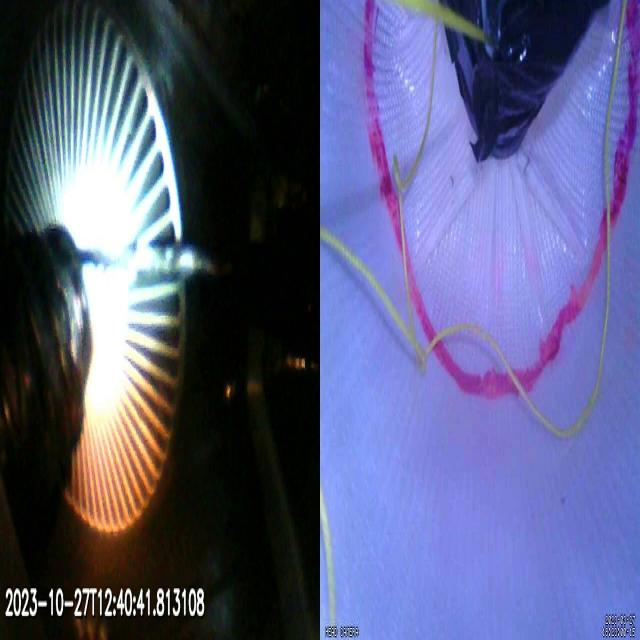red-circle: (362, 1, 640, 401)
